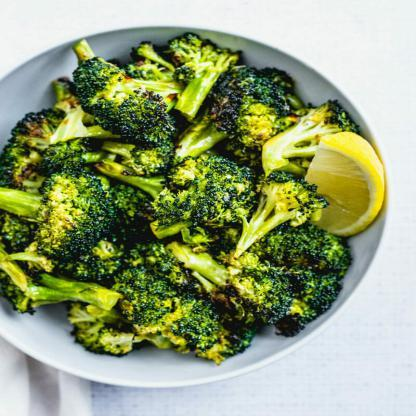broccoli: (0, 32, 368, 365)
